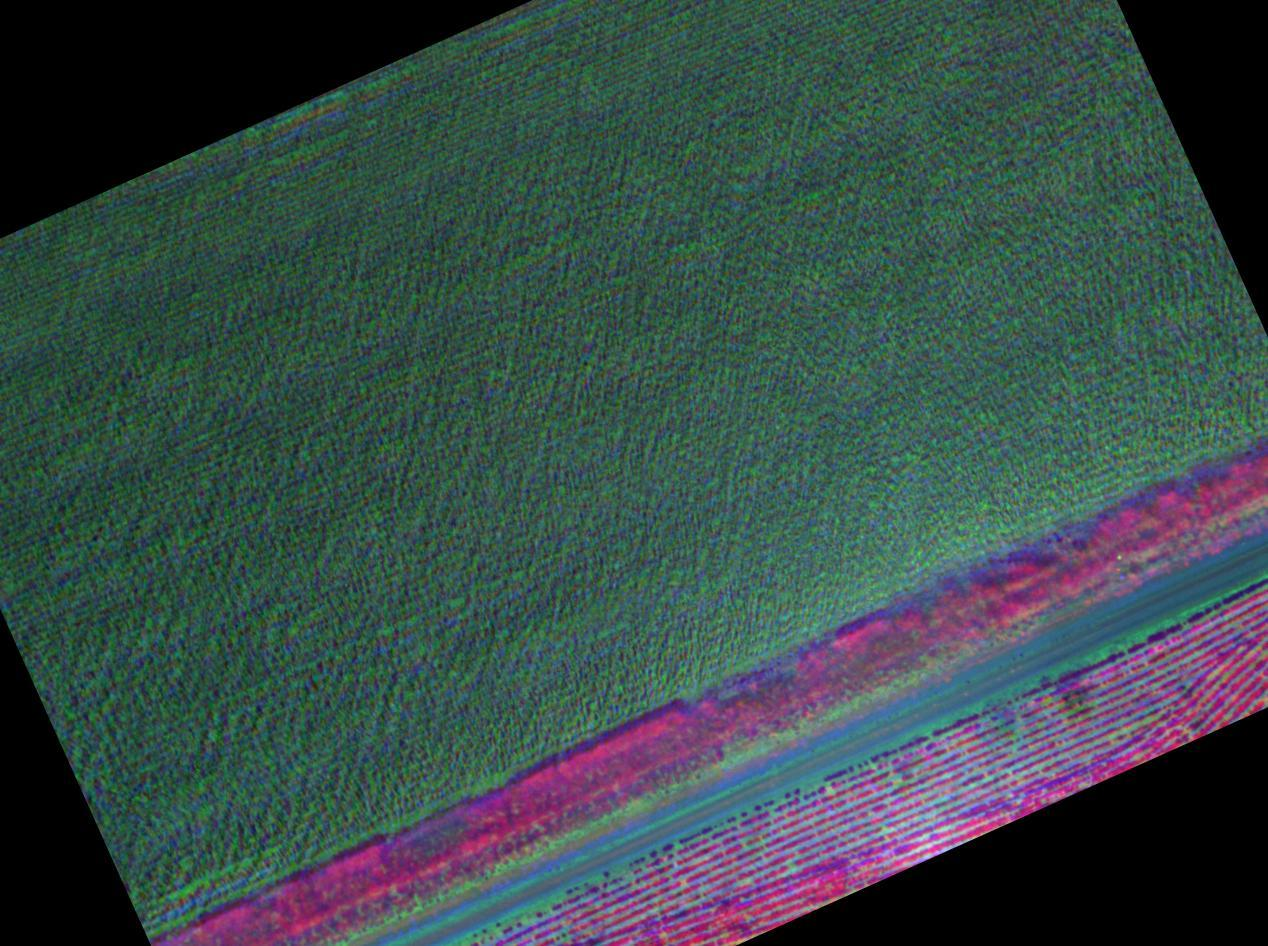dc: (1027, 647, 1128, 745)
